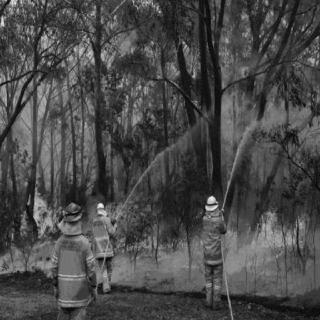other: (199, 208, 227, 310)
